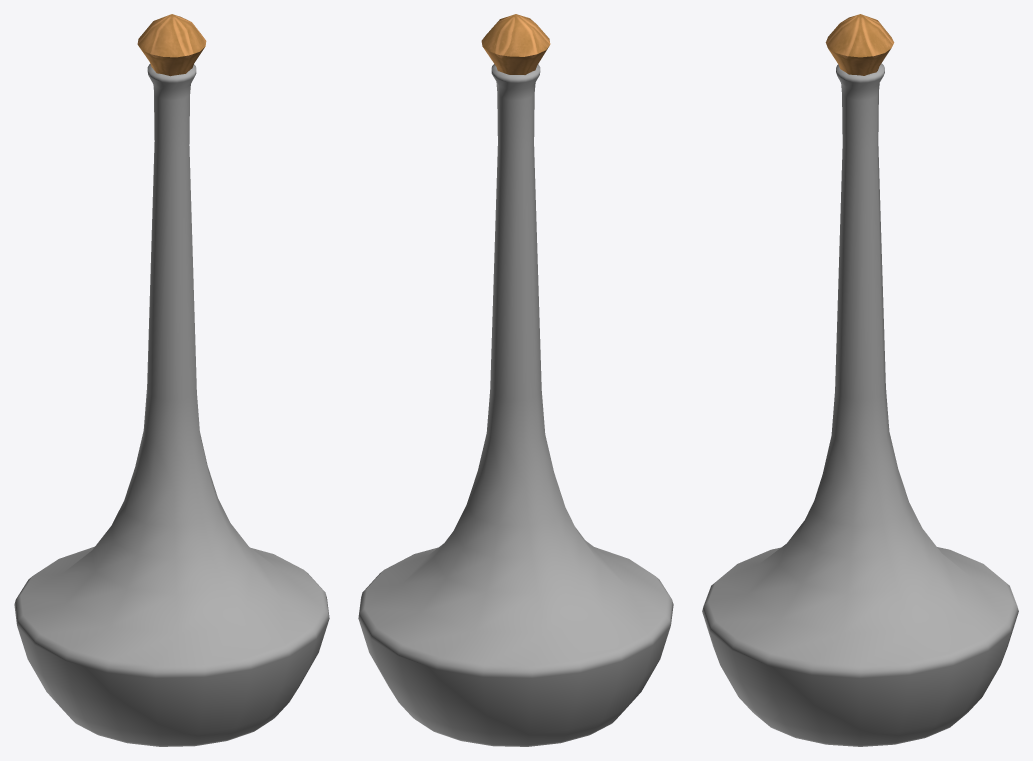
Rendered from SM_Potion_Props_Bottle_Big_04_B.fbx.
3 renders of one model, left to right at view 1: azimuth 30°, elevation 25°; view 2: azimuth 150°, elevation 25°; view 3: azimuth 270°, elevation 25°, orthographic.
Parts seen in each view (by area): view 1: SM_Potion_Props_Bottle_Big_04_B_LOD0; view 2: SM_Potion_Props_Bottle_Big_04_B_LOD0; view 3: SM_Potion_Props_Bottle_Big_04_B_LOD0.
Part boxes in pixels (x1,y1,x2,y2): SM_Potion_Props_Bottle_Big_04_B_LOD0: [14, 14, 329, 746]; SM_Potion_Props_Bottle_Big_04_B_LOD0: [358, 14, 673, 746]; SM_Potion_Props_Bottle_Big_04_B_LOD0: [702, 14, 1018, 746].
Size of what is drawn, in the model's own units: 24.27 by 58.1 by 24.27.
